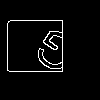G: (25, 25, 84, 85)
